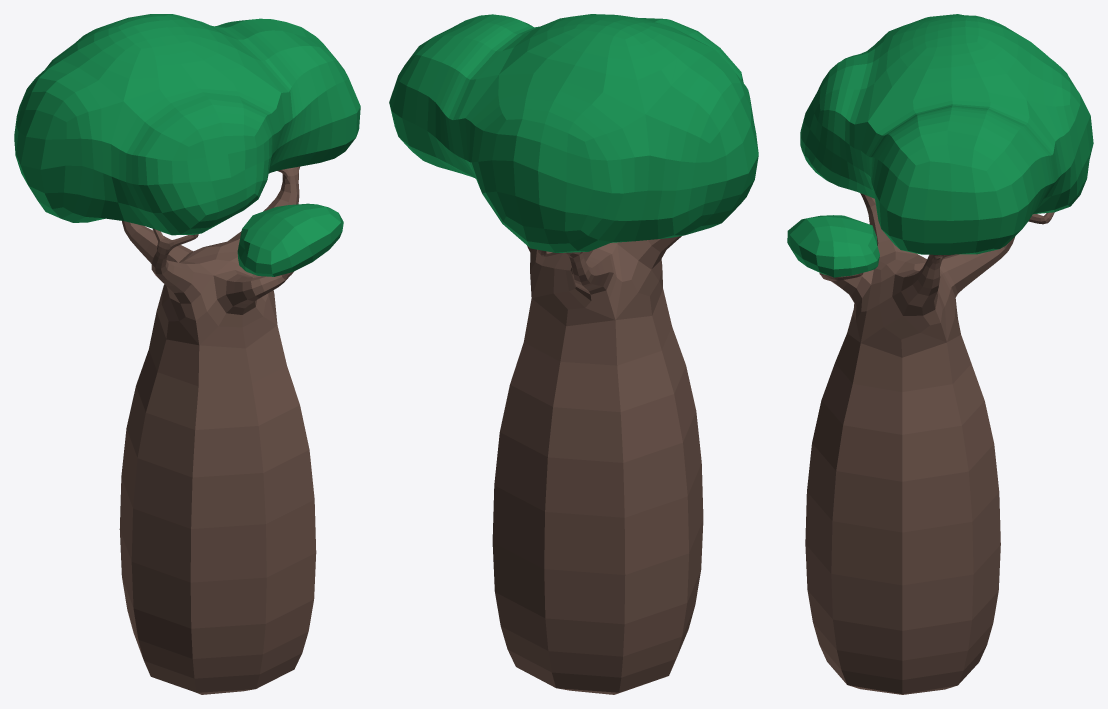
3 views of the same model, side by side, from view 1: azimuth 30°, elevation 25°; view 2: azimuth 150°, elevation 25°; view 3: azimuth 270°, elevation 25° (orthographic). The views are drawn at different scales.
Visible parts, largest first — view 1: tree_4; view 2: tree_4; view 3: tree_4.
Part boxes in pixels (<box>): tree_4: <box>14,14,360,694</box>; tree_4: <box>389,14,758,694</box>; tree_4: <box>787,14,1093,694</box>.
Bounding box in the file's own units: 829 × 1587 × 698.
